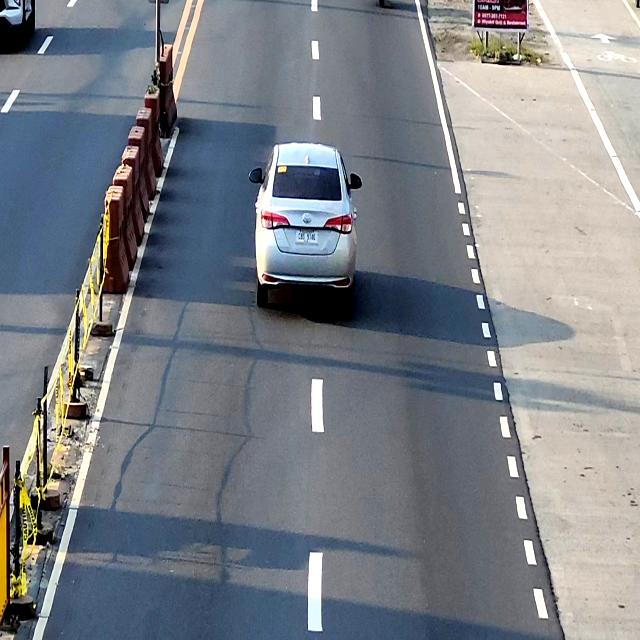Car: (250, 141, 362, 315)
License-Plate: (296, 230, 318, 244)
